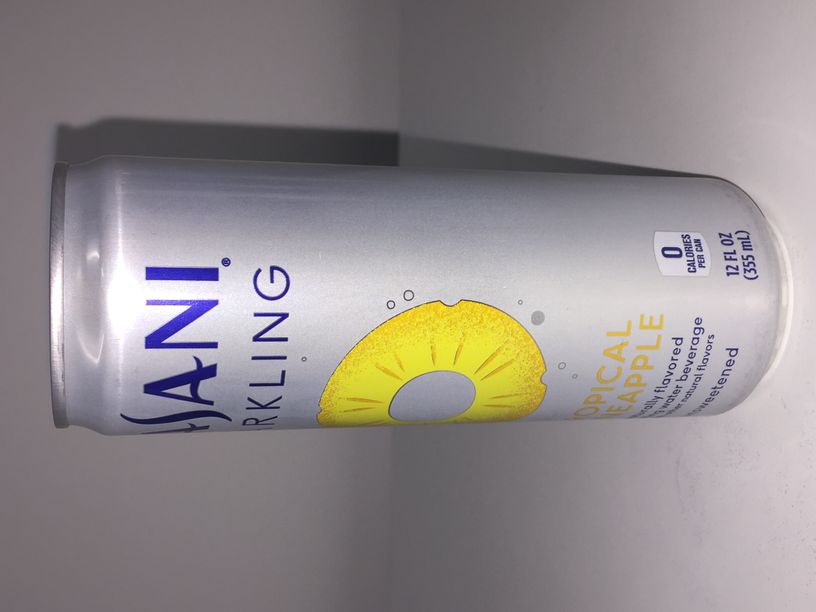pineapple: (50, 155, 785, 434)
